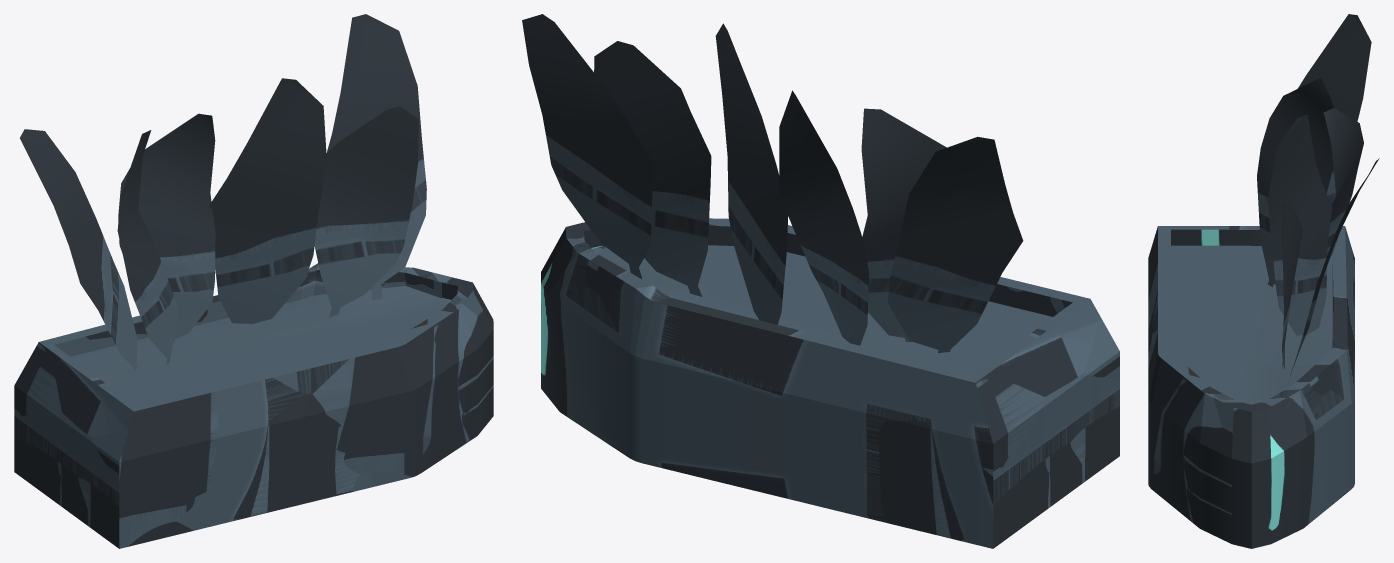
File: one_game.fbx
3 views of the same model, side by side, from view 1: azimuth 30°, elevation 25°; view 2: azimuth 150°, elevation 25°; view 3: azimuth 270°, elevation 25° (orthographic). The views are drawn at different scales.
Visible parts, largest first — view 1: Box001; view 2: Box001; view 3: Box001.
Part boxes in pixels (left/top/right/bottom): Box001: left=14, top=14, right=493, bottom=548; Box001: left=522, top=14, right=1119, bottom=548; Box001: left=1148, top=14, right=1379, bottom=548.
Bounding box in the file's own units: 190 × 154 × 90.6.
